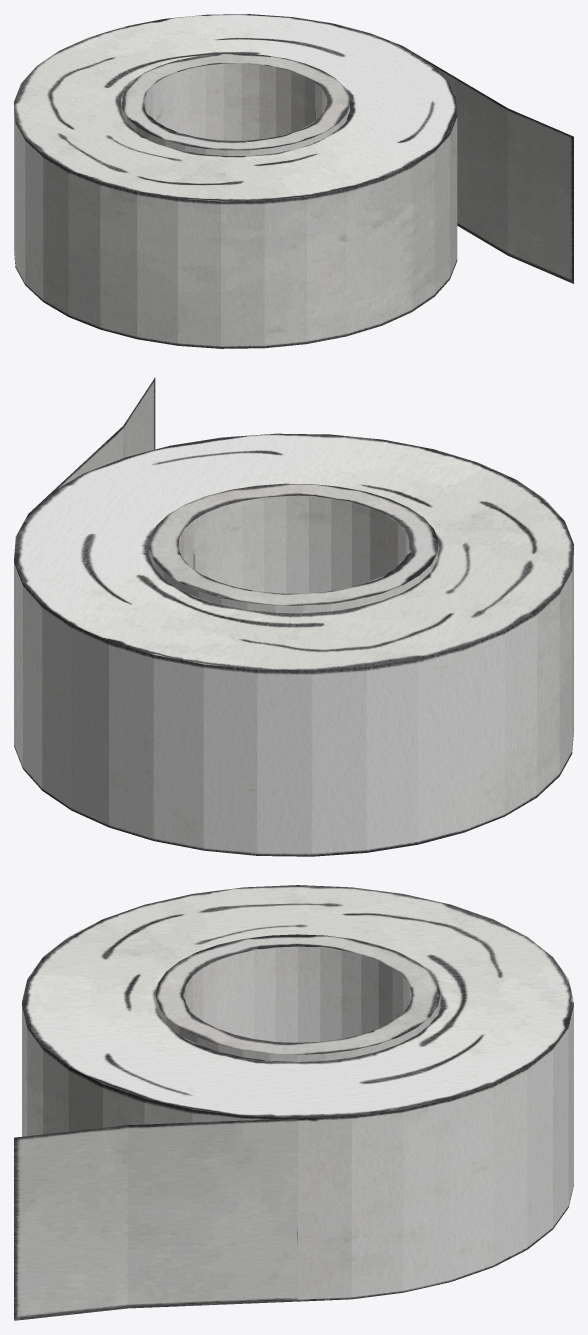
File: tape.fbx
3 views of the same model, one above another, from view 1: azimuth 30°, elevation 25°; view 2: azimuth 150°, elevation 25°; view 3: azimuth 270°, elevation 25° (orthographic). The views are drawn at different scales.
Visible parts, largest first — view 1: Cylinder; view 2: Cylinder; view 3: Cylinder.
Part boxes in pixels (x1,y1,x2,y2): Cylinder: [14, 14, 573, 348]; Cylinder: [14, 377, 573, 856]; Cylinder: [14, 885, 573, 1320].
Size of the model in its own units: 217 by 78.91 by 203.
